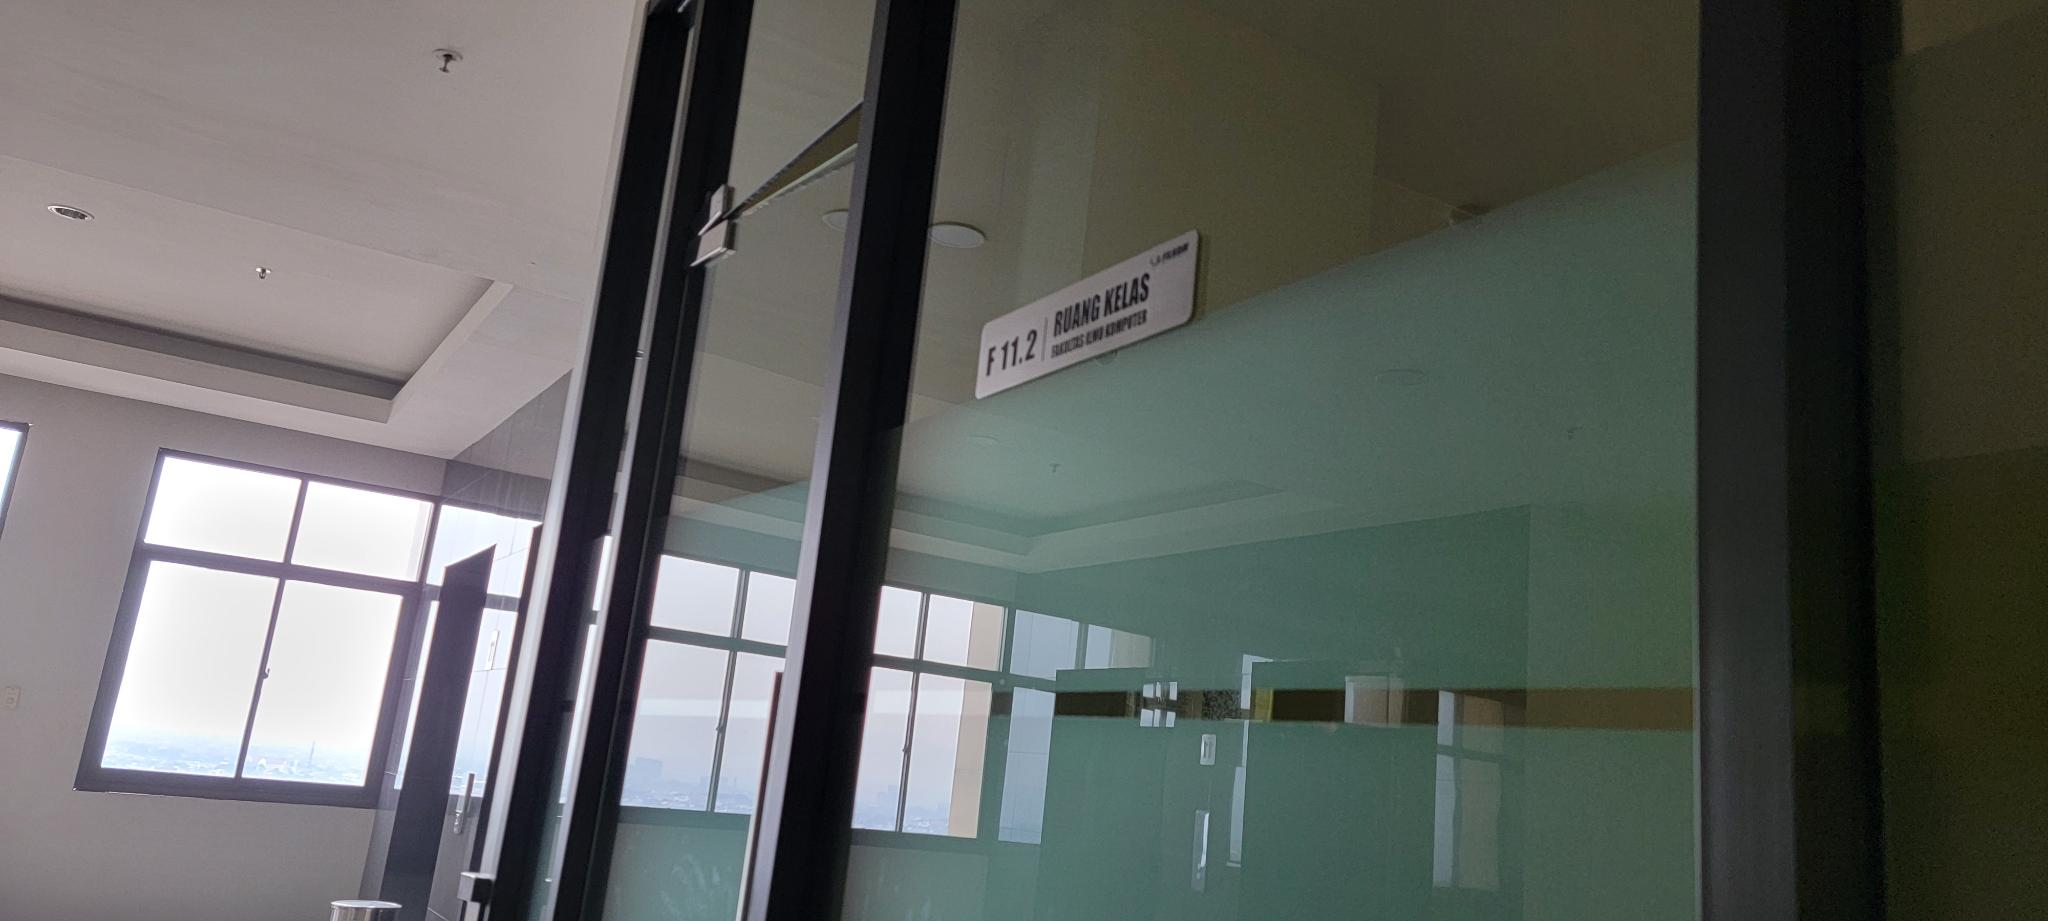plate: (972, 229, 1200, 402)
